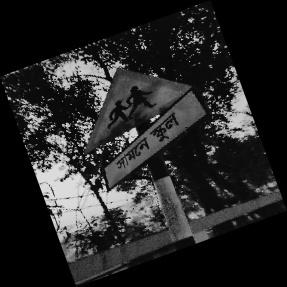School-in-front: (85, 67, 207, 190)
